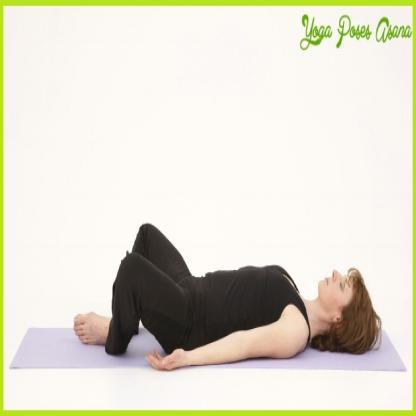godness: (68, 215, 385, 378)
